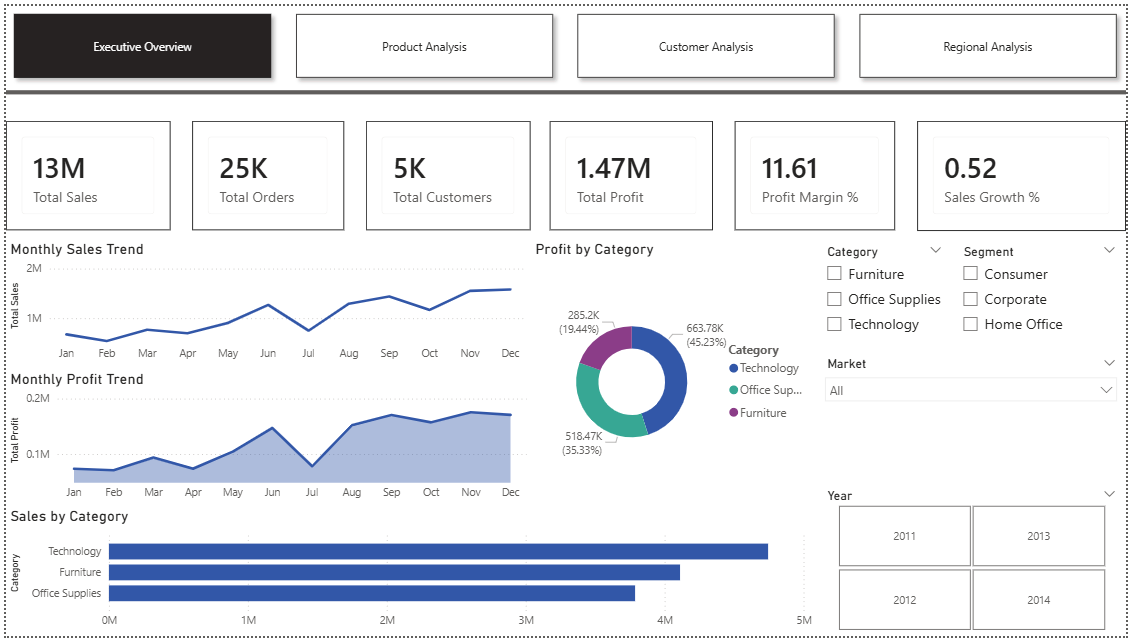

What the dashboard file says about the page in this screenshot:
{"tool":"powerbi","page":{"name":"Executive Overview","canvas":[1280,720],"ordinal":0},"visuals":[{"type":"cardVisual","fields":{"Data":["superstore.Total Sales"]},"box":[0,131.7,188.3,125],"z":0},{"type":"cardVisual","fields":{"Data":["superstore.Total Profit"]},"box":[621.7,131.7,186.7,125],"z":1000},{"type":"cardVisual","fields":{"Data":["superstore.Total Orders"]},"box":[213.3,131.7,173.3,125],"z":2000},{"type":"cardVisual","fields":{"Data":["superstore.Total Customers"]},"box":[411.7,131.7,188.3,125],"z":3000},{"type":"cardVisual","fields":{"Data":["superstore.Profit Margin %"]},"box":[833.3,131.7,183.3,125],"z":4000},{"type":"lineChart","title":"Monthly Sales Trend","fields":{"Category":["superstore.Month"],"Y":["superstore.Total Sales"]},"box":[0,266.7,600,148.3],"z":5000},{"type":"stackedAreaChart","title":"Monthly Profit Trend","fields":{"Category":["superstore.Month"],"Y":["superstore.Total Profit"]},"box":[0,415,600,158.3],"z":6000},{"type":"clusteredBarChart","title":"Sales by Category","fields":{"Category":["superstore.Category"],"Y":["superstore.Total Sales"]},"box":[0,572.9,925.7,147.1],"z":7000},{"type":"donutChart","title":"Profit by Category","fields":{"Category":["superstore.Category"],"Y":["superstore.Total Profit"]},"box":[600,267.1,325.7,305.7],"z":8000},{"type":"slicer","fields":{"Values":["superstore.Year"]},"box":[925.7,545.7,354.3,174.3],"z":9000},{"type":"slicer","fields":{"Values":["superstore.Market"]},"box":[925.7,395.7,354.3,150],"z":10000},{"type":"slicer","fields":{"Values":["superstore.Segment"]},"box":[1081.4,267.1,198.6,125.7],"z":11000},{"type":"slicer","fields":{"Values":["superstore.Category"]},"box":[925.7,267.1,155.7,128.6],"z":12000},{"type":"pageNavigator","box":[0,0,1280,91.7],"z":13000},{"type":"textbox","box":[0,91.7,1280,40],"z":14000},{"type":"cardVisual","fields":{"Data":["superstore.Sales Growth %"]},"box":[1041.4,131.4,238.6,125.7],"z":14001}]}

Visuals, with their boxes in screenshot pixels (x1, y1, x2, y2), scaled from the page's 1280x720 canvas onto the 1132x640 screenshot:
cardVisual - superstore.Total Sales: (0, 117, 167, 228)
cardVisual - superstore.Total Profit: (550, 117, 715, 228)
cardVisual - superstore.Total Orders: (189, 117, 342, 228)
cardVisual - superstore.Total Customers: (364, 117, 531, 228)
cardVisual - superstore.Profit Margin %: (737, 117, 899, 228)
"Monthly Sales Trend" lineChart: (0, 237, 531, 369)
"Monthly Profit Trend" stackedAreaChart: (0, 369, 531, 510)
"Sales by Category" clusteredBarChart: (0, 509, 819, 639)
"Profit by Category" donutChart: (531, 237, 819, 509)
slicer - superstore.Year: (819, 485, 1131, 639)
slicer - superstore.Market: (819, 352, 1131, 485)
slicer - superstore.Segment: (956, 237, 1131, 349)
slicer - superstore.Category: (819, 237, 956, 352)
pageNavigator: (0, 0, 1131, 82)
textbox: (0, 82, 1131, 117)
cardVisual - superstore.Sales Growth %: (921, 117, 1131, 229)
